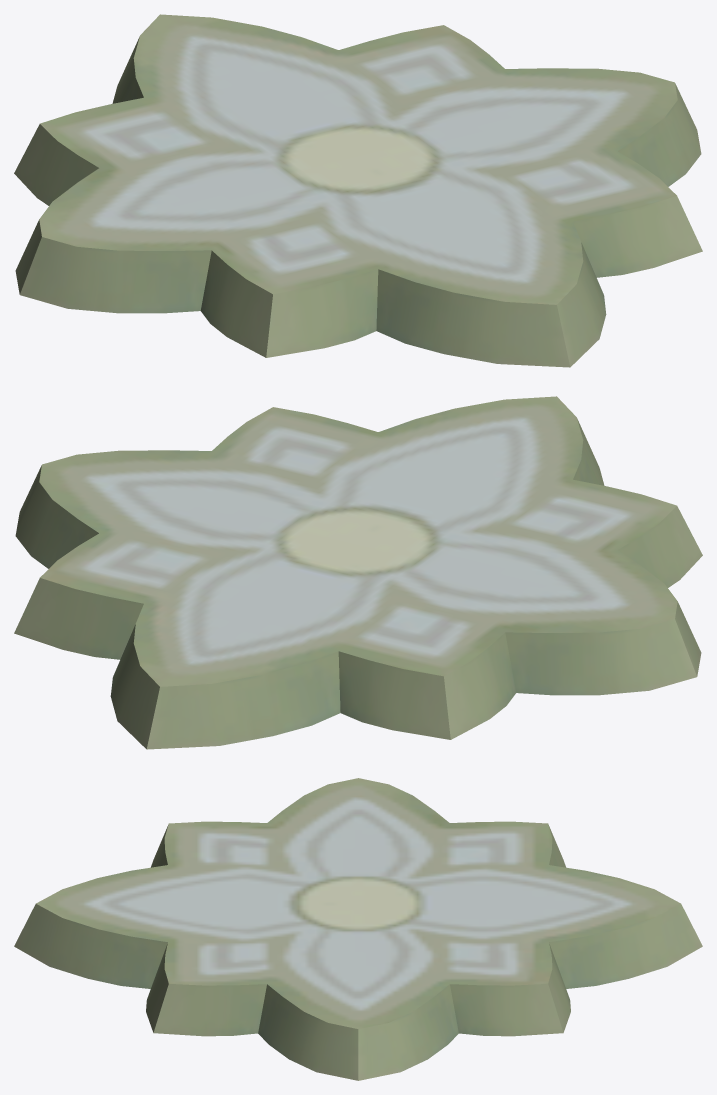
File: Homeworld_Ani_Interior_Common_Walldecoration_Prop_MechanicalDrawing_01_10_Vo.fbx
The picture shows the model from 3 angles, top to bottom: view 1: azimuth 30°, elevation 25°; view 2: azimuth 150°, elevation 25°; view 3: azimuth 270°, elevation 25°; orthographic projection. The views are drawn at different scales.
Parts seen in each view (by area): view 1: Homeworld_Ani_Interior_Common_Walldecoration_Prop_Mechanical; view 2: Homeworld_Ani_Interior_Common_Walldecoration_Prop_Mechanical; view 3: Homeworld_Ani_Interior_Common_Walldecoration_Prop_Mechanical.
Part boxes in pixels (<box>): Homeworld_Ani_Interior_Common_Walldecoration_Prop_Mechanical: <box>14,14,702,367</box>; Homeworld_Ani_Interior_Common_Walldecoration_Prop_Mechanical: <box>14,396,702,749</box>; Homeworld_Ani_Interior_Common_Walldecoration_Prop_Mechanical: <box>14,778,702,1080</box>.
Size of the model in its own units: 0.0845 by 0.00629 by 0.0916.
